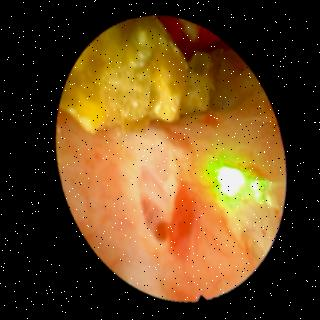laser: (210, 164, 259, 205)
stone: (61, 20, 212, 131)
tissue: (59, 22, 278, 296)
